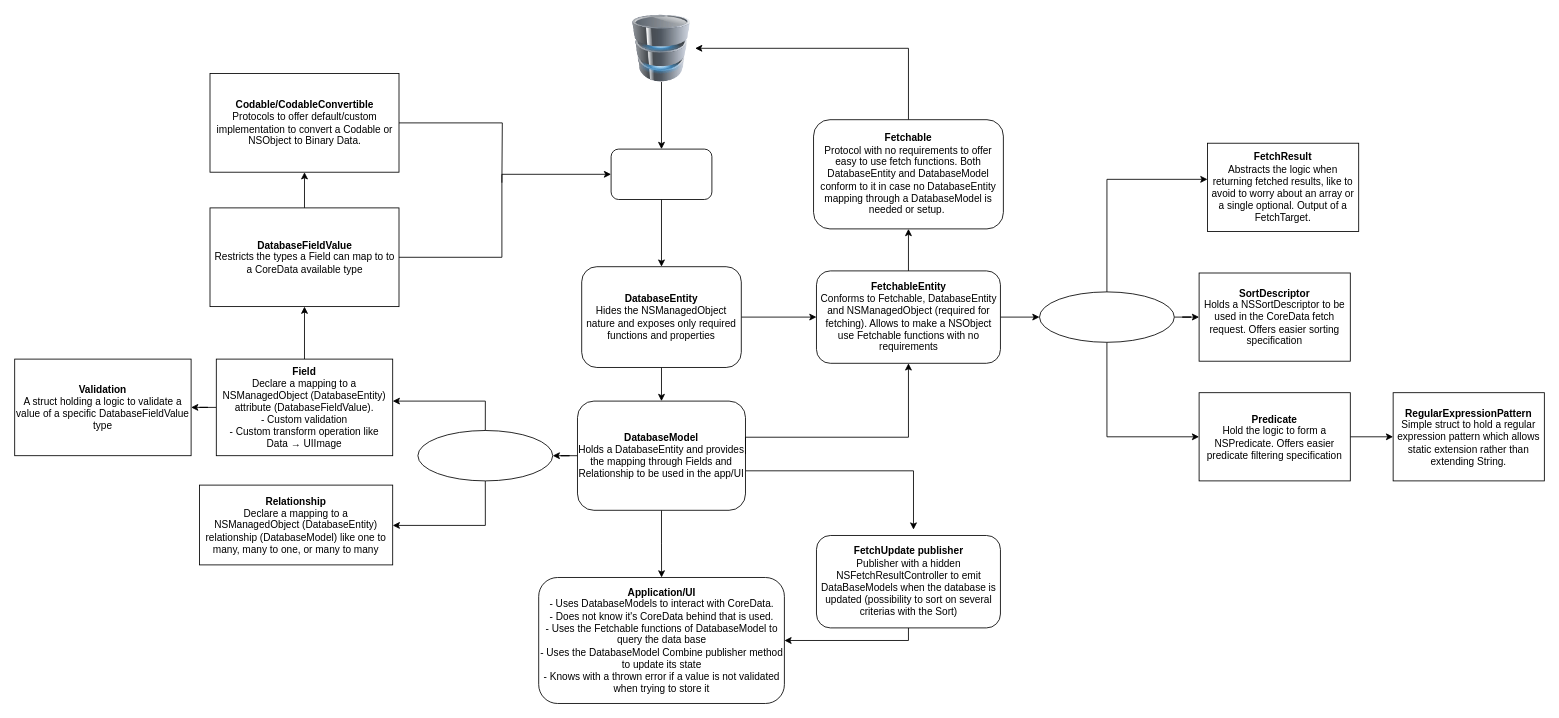
Image size: 1559x718. Some labels were removed from this diagram. The box of each missing label's shape, as (x1, y1, x2, y2) in pixels:
CoreData: (627, 14, 695, 81)
NSManagedObject: (610, 148, 712, 200)
RequestBuilder: (1039, 291, 1174, 342)
Uses the mapping structures: (417, 430, 553, 481)
